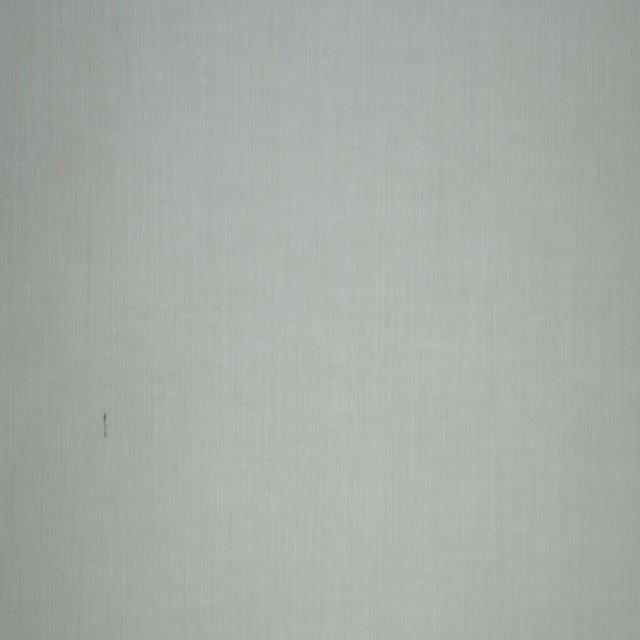dirty: (103, 413, 108, 439)
